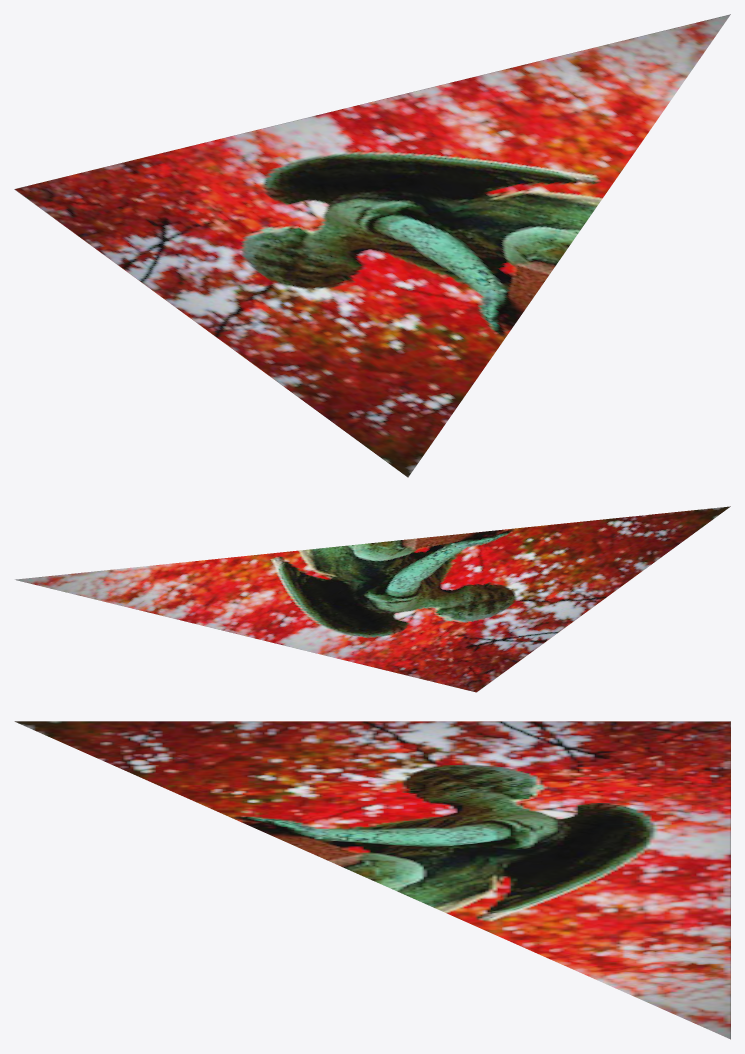
File: Triangle.fbx
3 views of the same model, one above another, from view 1: azimuth 30°, elevation 25°; view 2: azimuth 150°, elevation 25°; view 3: azimuth 270°, elevation 25° (orthographic). The views are drawn at different scales.
Visible parts, largest first — view 1: Triangle; view 2: Triangle; view 3: Triangle.
Part boxes in pixels (bbox=[...]): Triangle: bbox=[14, 14, 730, 477]; Triangle: bbox=[15, 506, 730, 692]; Triangle: bbox=[14, 721, 730, 1039].
Bounding box in the file's own units: 87.24 × 2.35e-14 × 83.06.
Materials: 1 (1 with a texture image).
